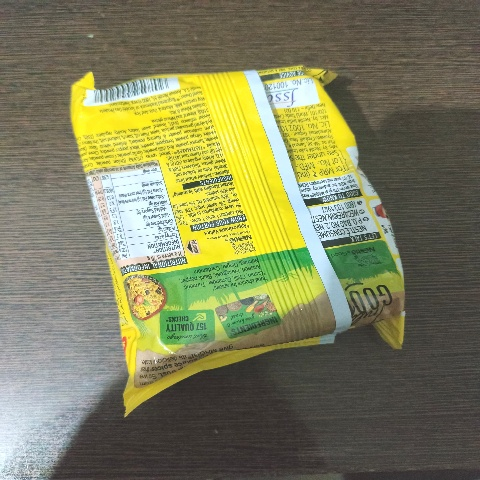maggi: (3, 36, 192, 204)
